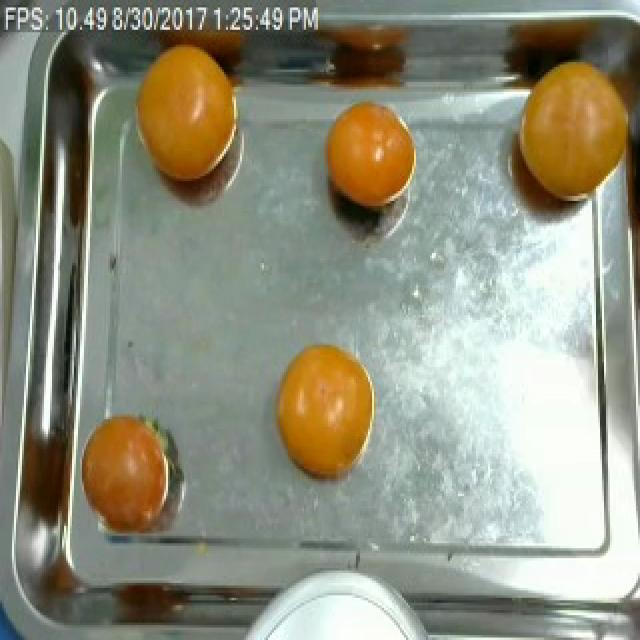Fruit: (498, 44, 634, 226), (122, 37, 250, 194), (262, 332, 378, 493), (78, 399, 186, 546), (312, 92, 426, 226)
